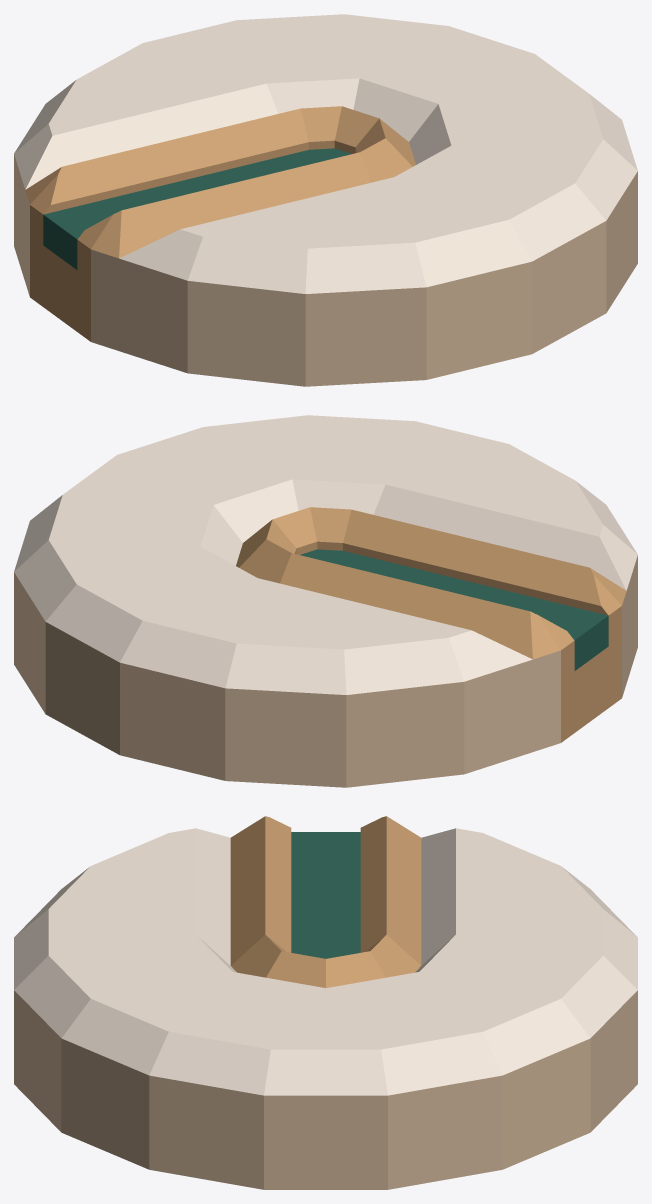
Rendered from Puzzle_Floor_Conduit_Rotating_Platform_End.fbx.
The picture shows the model from 3 angles, top to bottom: view 1: azimuth 30°, elevation 25°; view 2: azimuth 150°, elevation 25°; view 3: azimuth 270°, elevation 25°; orthographic projection.
Parts seen in each view (by area): view 1: Sandstone_Floor.Sandstone_Floor.Sandstone_Floor.Sandstone_Fl, Sandstone_Trim.Sandstone_Trim.Sandstone_Trim.Sandstone_Trim, Sandstone_5.Sandstone_5.Sandstone_5, object1; view 2: Sandstone_Floor.Sandstone_Floor.Sandstone_Floor.Sandstone_Fl, Sandstone_Trim.Sandstone_Trim.Sandstone_Trim.Sandstone_Trim, Sandstone_5.Sandstone_5.Sandstone_5, object1; view 3: Sandstone_Floor.Sandstone_Floor.Sandstone_Floor.Sandstone_Fl, Sandstone_Trim.Sandstone_Trim.Sandstone_Trim.Sandstone_Trim, Sandstone_5.Sandstone_5.Sandstone_5, object1.
Part boxes in pixels (<box>): Sandstone_Floor.Sandstone_Floor.Sandstone_Floor.Sandstone_Fl: <box>14,14,637,293</box>; Sandstone_Trim.Sandstone_Trim.Sandstone_Trim.Sandstone_Trim: <box>14,154,637,386</box>; Sandstone_5.Sandstone_5.Sandstone_5: <box>25,106,415,341</box>; object1: <box>43,148,351,269</box>; Sandstone_Floor.Sandstone_Floor.Sandstone_Floor.Sandstone_Fl: <box>14,415,637,694</box>; Sandstone_Trim.Sandstone_Trim.Sandstone_Trim.Sandstone_Trim: <box>14,555,637,787</box>; Sandstone_5.Sandstone_5.Sandstone_5: <box>236,507,626,742</box>; object1: <box>300,549,608,670</box>; Sandstone_Floor.Sandstone_Floor.Sandstone_Floor.Sandstone_Fl: <box>14,828,637,1095</box>; Sandstone_Trim.Sandstone_Trim.Sandstone_Trim.Sandstone_Trim: <box>14,990,637,1189</box>; Sandstone_5.Sandstone_5.Sandstone_5: <box>230,816,421,987</box>; object1: <box>291,832,360,958</box>.
Size of the model in its own units: 0.9 by 0.2 by 0.9.
